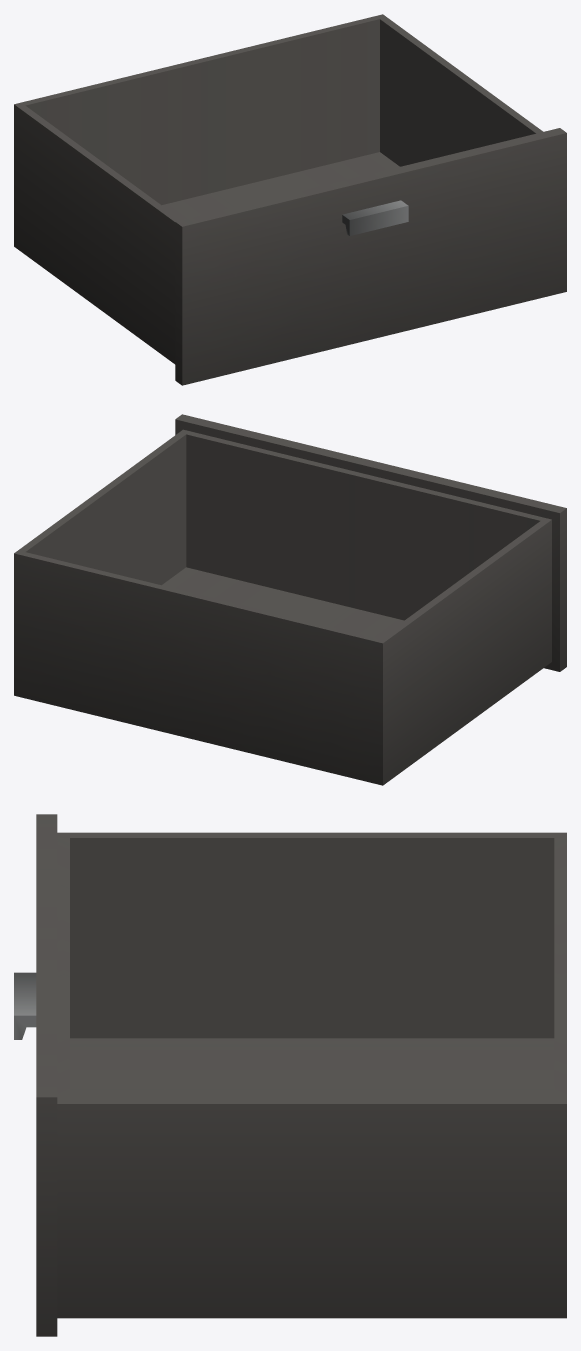
File: Drawer_SideboardCabinet_Gray_large.fbx
3 renders of one model, top to bottom at view 1: azimuth 30°, elevation 25°; view 2: azimuth 150°, elevation 25°; view 3: azimuth 270°, elevation 25°, orthographic. The views are drawn at different scales.
Visible parts, largest first — view 1: Drawer_SideboardCabinet_Gray_large; view 2: Drawer_SideboardCabinet_Gray_large; view 3: Drawer_SideboardCabinet_Gray_large.
Part boxes in pixels (x1,y1,x2,y2): Drawer_SideboardCabinet_Gray_large: (14,14,566,385); Drawer_SideboardCabinet_Gray_large: (14,414,566,785); Drawer_SideboardCabinet_Gray_large: (14,814,566,1336).
Bounding box in the file's own units: 78.47 × 30.96 × 64.83.
